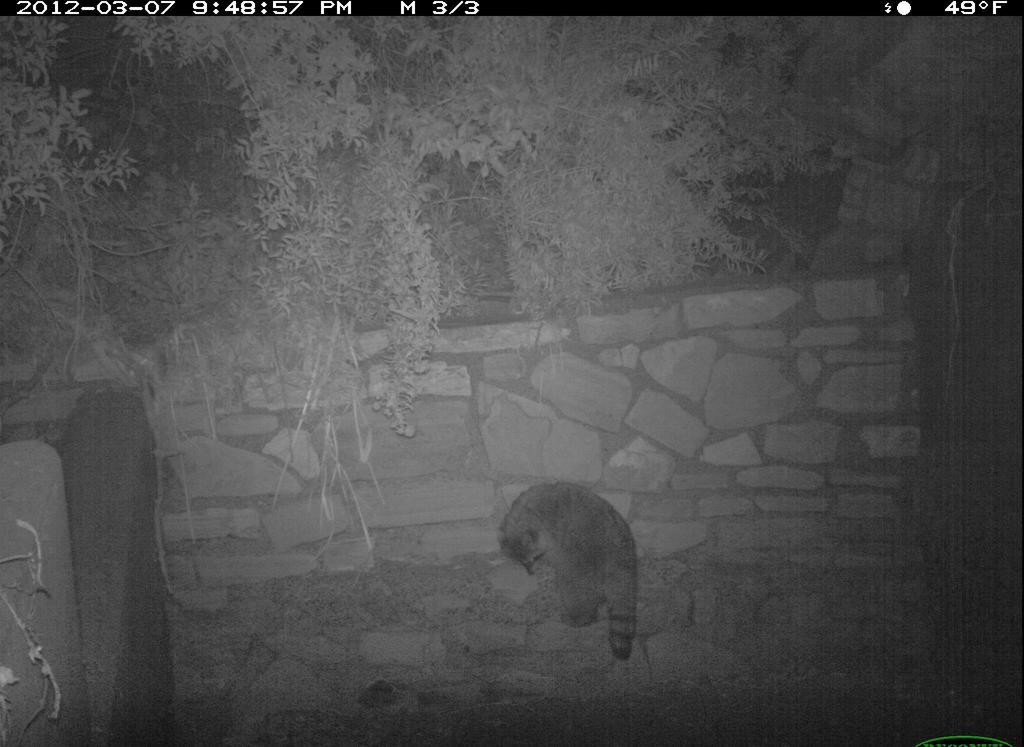raccoon: (496, 474, 658, 669)
